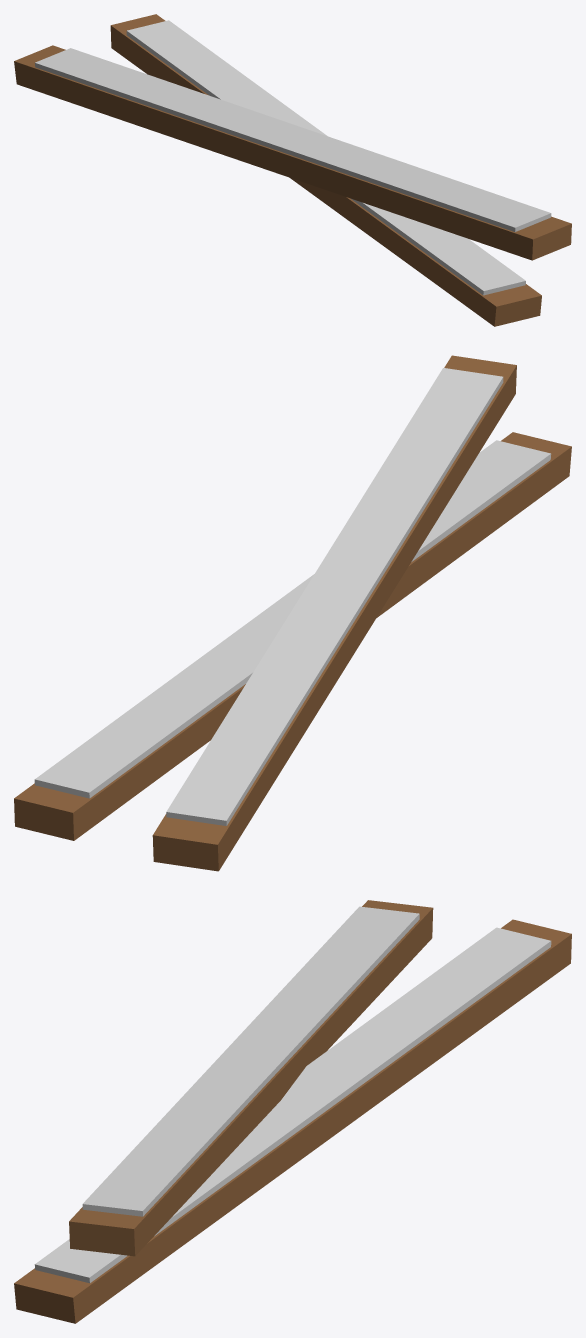
File: plank_2_snow_mat.fbx
The picture shows the model from 3 angles, top to bottom: view 1: azimuth 30°, elevation 25°; view 2: azimuth 150°, elevation 25°; view 3: azimuth 330°, elevation 25°; orthographic projection. The views are drawn at different scales.
Parts seen in each view (by area): view 1: plank_2_snow_mat; view 2: plank_2_snow_mat; view 3: plank_2_snow_mat.
Boxes of the visible parts, box(x1,y1,x2,y2) form: plank_2_snow_mat: box(14, 14, 571, 326); plank_2_snow_mat: box(14, 355, 571, 871); plank_2_snow_mat: box(14, 900, 571, 1323).
Bounding box in the file's own units: 0.8412 × 0.3681 × 2.98.
